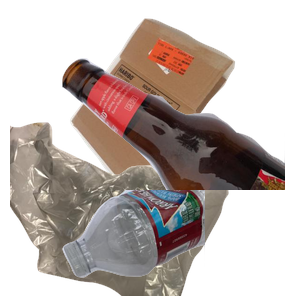cardboard: (67, 16, 295, 196)
glass: (60, 56, 300, 236)
plastic: (60, 190, 300, 280)
trash: (10, 120, 231, 300)
